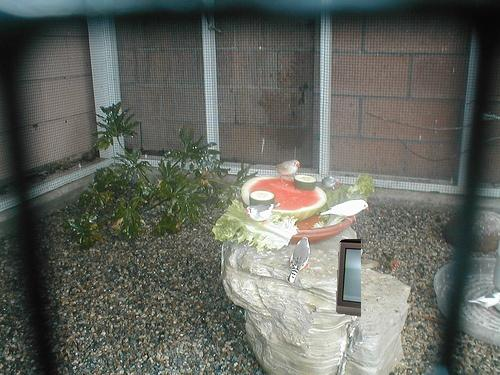tampered: (337, 240, 361, 317)
